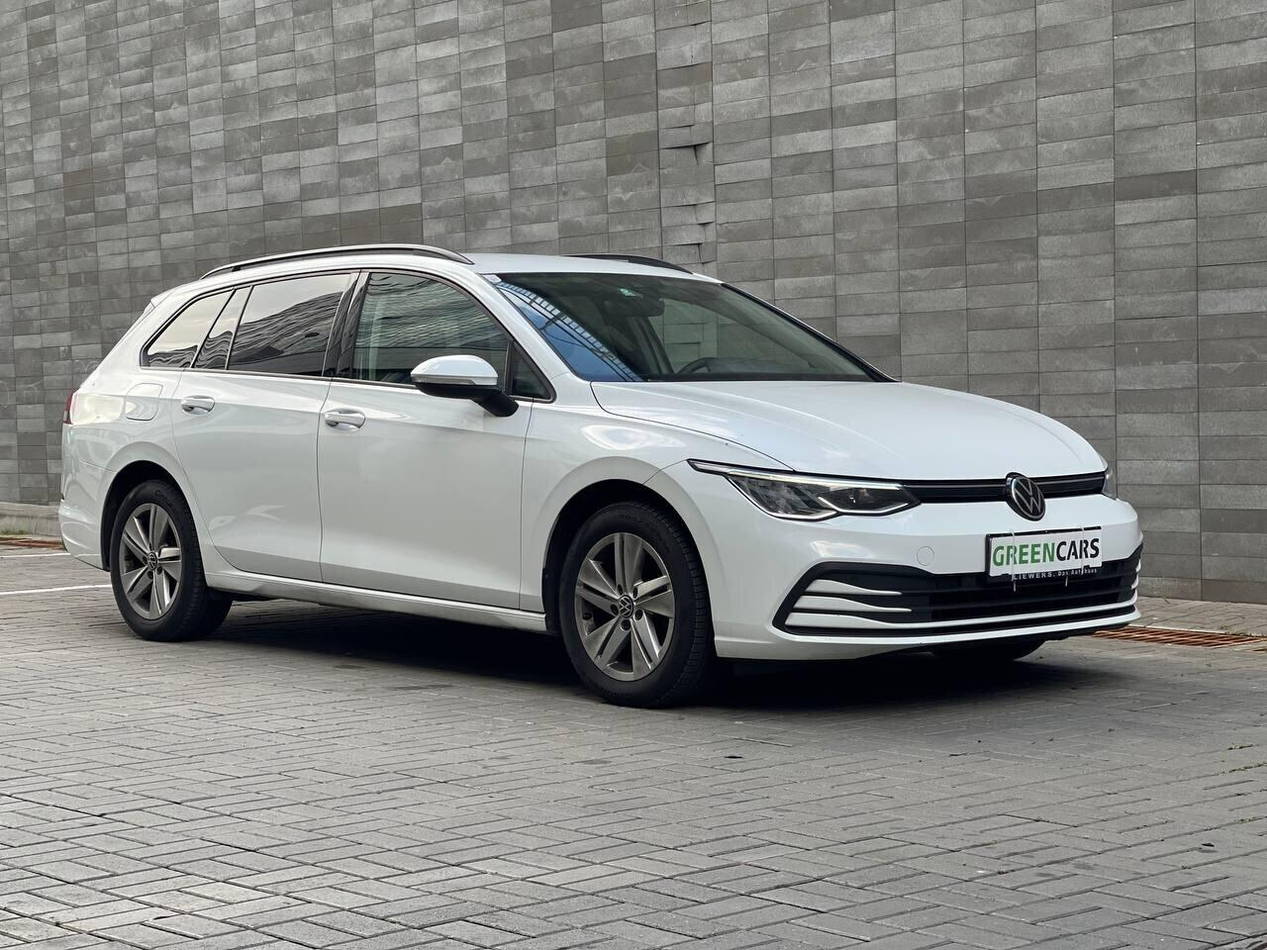Golf_2019: (52, 246, 1149, 711)
